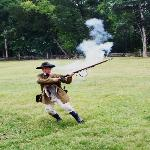Senapan: (62, 54, 114, 86)
